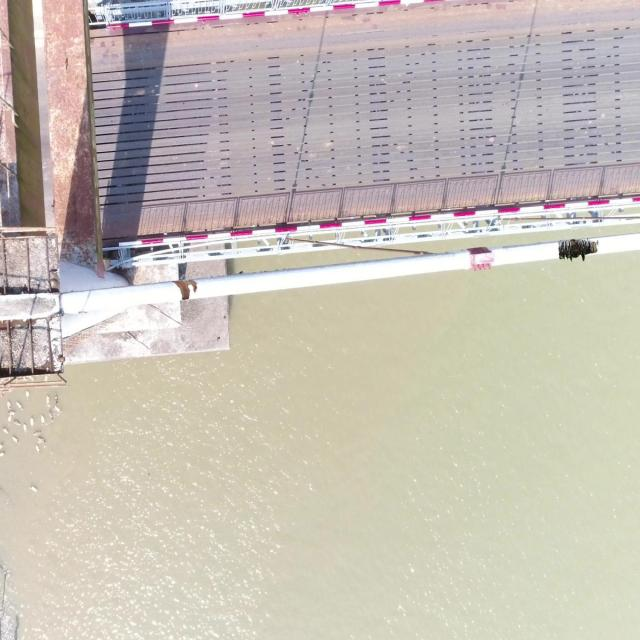corrosion: (558, 238, 598, 262), (172, 279, 198, 300)
